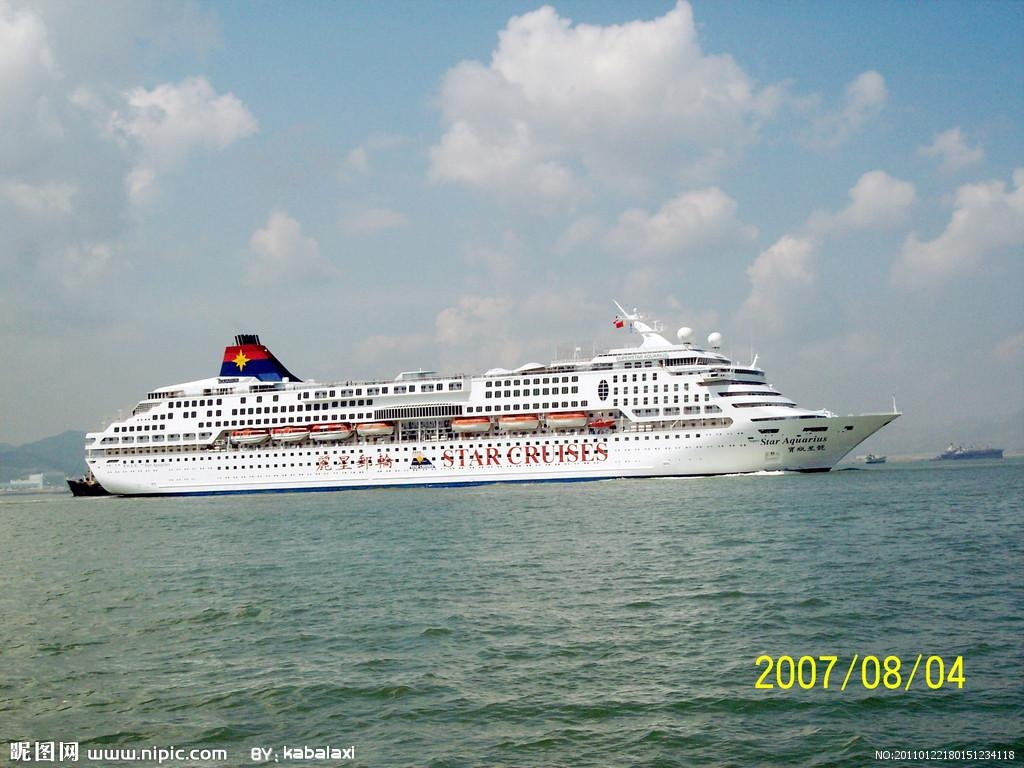youlun: (54, 294, 919, 501)
